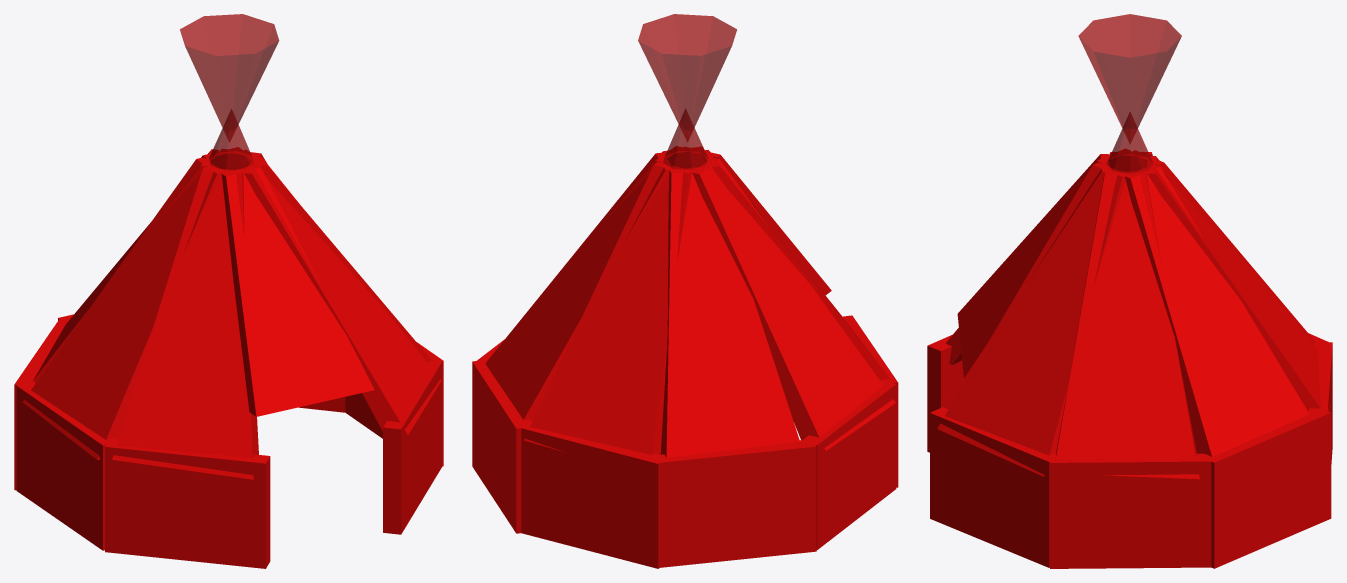
File: SM_Bld_Teepee_03_Collision.fbx
3 views of the same model, side by side, from view 1: azimuth 30°, elevation 25°; view 2: azimuth 150°, elevation 25°; view 3: azimuth 270°, elevation 25° (orthographic).
Parts seen in each view (by area): view 1: SM_Bld_Teepee_03_Collision; view 2: SM_Bld_Teepee_03_Collision; view 3: SM_Bld_Teepee_03_Collision.
Part boxes in pixels (x1=…): SM_Bld_Teepee_03_Collision: x1=14, y1=14, x2=443, y2=568; SM_Bld_Teepee_03_Collision: x1=472, y1=14, x2=898, y2=568; SM_Bld_Teepee_03_Collision: x1=927, y1=14, x2=1332, y2=568.
Bounding box in the file's own units: 601 × 735 × 603.
